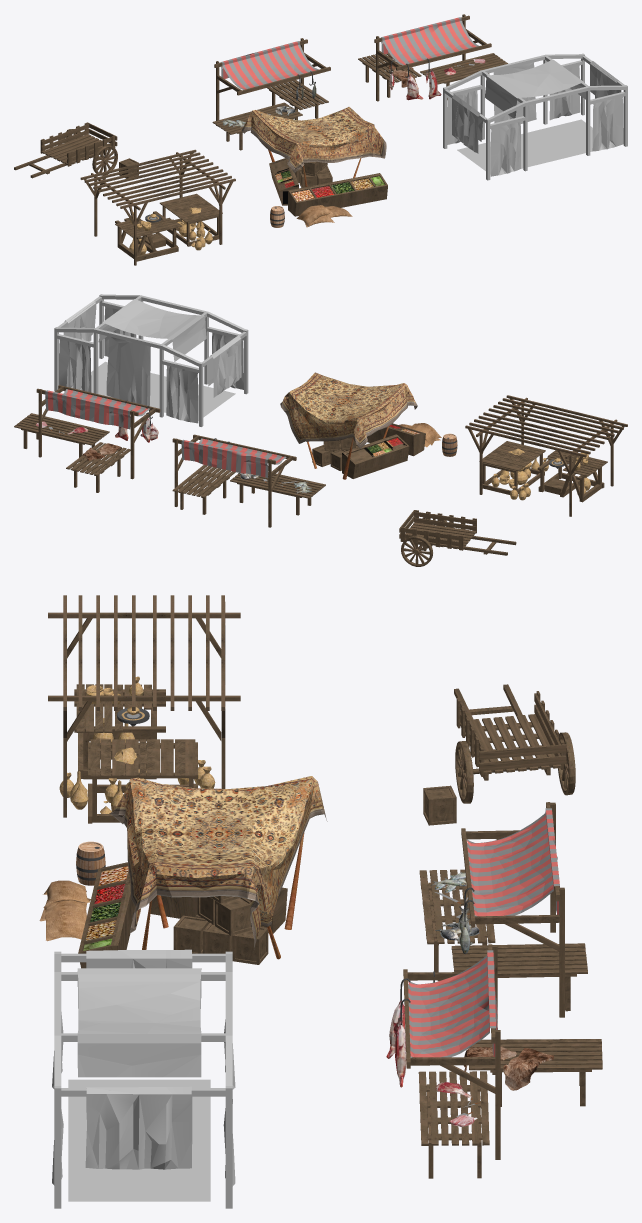
Rendered from Market.fbx.
The picture shows the model from 3 angles, top to bottom: view 1: azimuth 30°, elevation 25°; view 2: azimuth 150°, elevation 25°; view 3: azimuth 270°, elevation 25°; orthographic projection. The views are drawn at different scales.
Visible parts, largest first — view 1: Shop_1, Shop_3, Plane_0, group4, Shop_4, Ball_Gadi, Box_1, Box_2, Cube.001_0, Boxes, sooq; view 2: Shop_1, Shop_3, Plane_0, Shop_4, group4, Ball_Gadi, Box_2, Boxes, Box_1, Cube.001_0, sooq; view 3: Shop_1, Plane_0, Shop_3, Shop_4, group4, Ball_Gadi, Boxes, Box_1, sooq, Plane.009_0, Cube.001_0, Box_2 (+2 smaller).
Part boxes in pixels (x1,y1,x2,y2): Shop_1: (443, 53, 627, 180); Shop_3: (80, 149, 235, 265); Plane_0: (241, 107, 386, 186); group4: (212, 38, 330, 150); Shop_4: (358, 14, 507, 101); Ball_Gadi: (14, 122, 117, 178); Box_1: (288, 173, 387, 216); Box_2: (269, 158, 298, 205); Cube.001_0: (389, 58, 485, 100); Boxes: (295, 161, 332, 187); sooq: (296, 205, 352, 227); Shop_1: (54, 294, 248, 426); Shop_3: (465, 395, 627, 516); Plane_0: (280, 372, 417, 479); Shop_4: (14, 385, 160, 492); group4: (172, 434, 325, 527); Ball_Gadi: (399, 510, 516, 566); Box_2: (342, 434, 409, 478); Boxes: (312, 437, 357, 470); Box_1: (367, 423, 425, 456); Cube.001_0: (36, 414, 158, 442); sooq: (399, 423, 441, 447); Shop_1: (52, 949, 235, 1208); Plane_0: (110, 776, 327, 959); Shop_3: (48, 595, 240, 823); Shop_4: (403, 944, 602, 1178); group4: (419, 802, 587, 1017); Ball_Gadi: (454, 684, 575, 803); Boxes: (173, 896, 268, 964); Box_1: (78, 862, 135, 968); sooq: (39, 880, 90, 941); Plane.009_0: (463, 1046, 553, 1090); Cube.001_0: (386, 1000, 477, 1126); Box_2: (149, 887, 287, 933).
Size of the model in its own units: 300 by 40.82 by 144.
